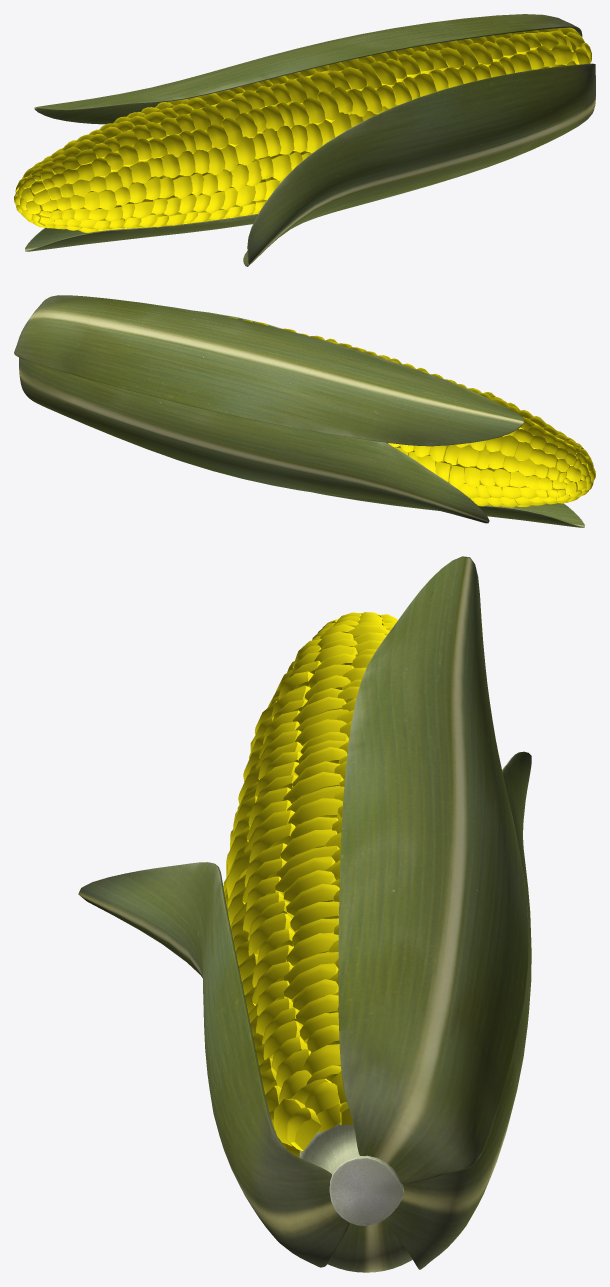
The model's file is Corn.glb.
The picture shows the model from 3 angles, top to bottom: view 1: azimuth 30°, elevation 25°; view 2: azimuth 150°, elevation 25°; view 3: azimuth 270°, elevation 25°; orthographic projection. The views are drawn at different scales.
Parts seen in each view (by area): view 1: Node1, Node2; view 2: Node2, Node1; view 3: Node2, Node1, Node3.
Part boxes in pixels (x1,y1,x2,y2): Node1: (14,27,591,232); Node2: (25,14,595,266); Node2: (14,295,584,527); Node1: (229,317,595,507); Node2: (78,556,531,1272); Node1: (223,612,397,1157); Node3: (299,1124,403,1225).
Bounding box in the file's own units: 18.33 × 4.59 × 6.43.
Materials: 3 (2 with a texture image).
